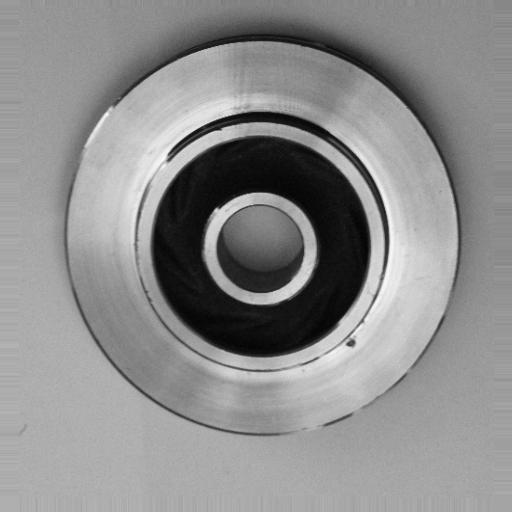crack: (343, 331, 364, 355)
scratch: (140, 140, 176, 215)
unpolished_casting: (63, 36, 460, 439)
